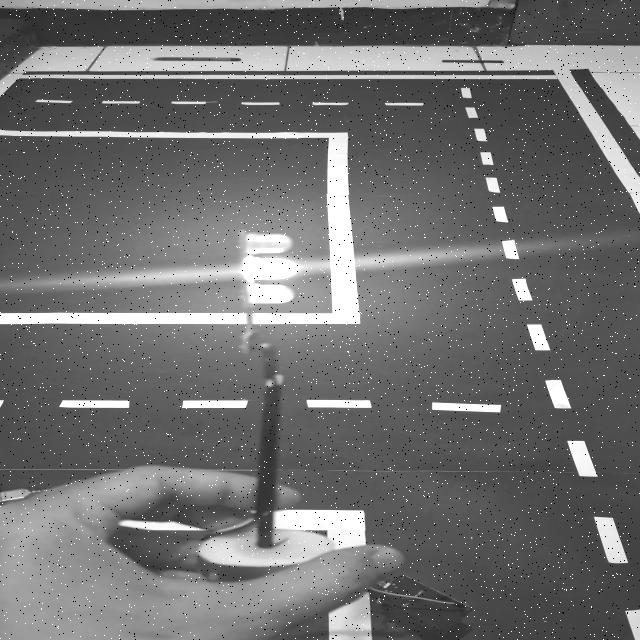Lampu Kuning: (230, 228, 300, 309)
